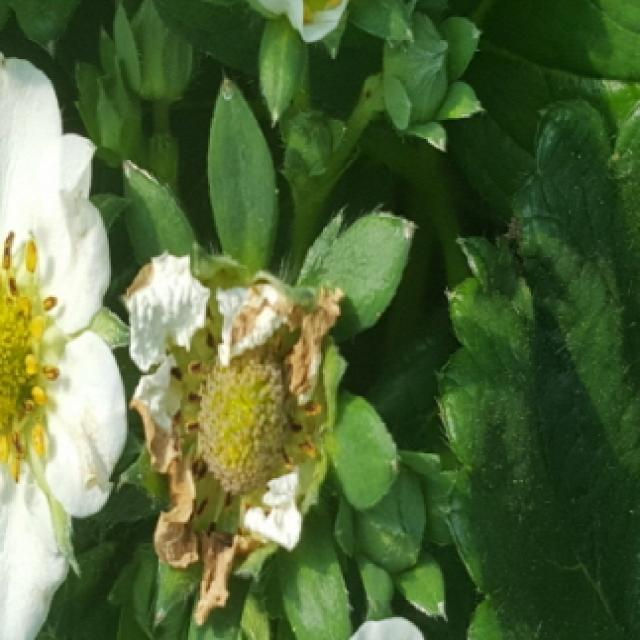Blossom Blight: (159, 298, 323, 540), (0, 224, 66, 499)
